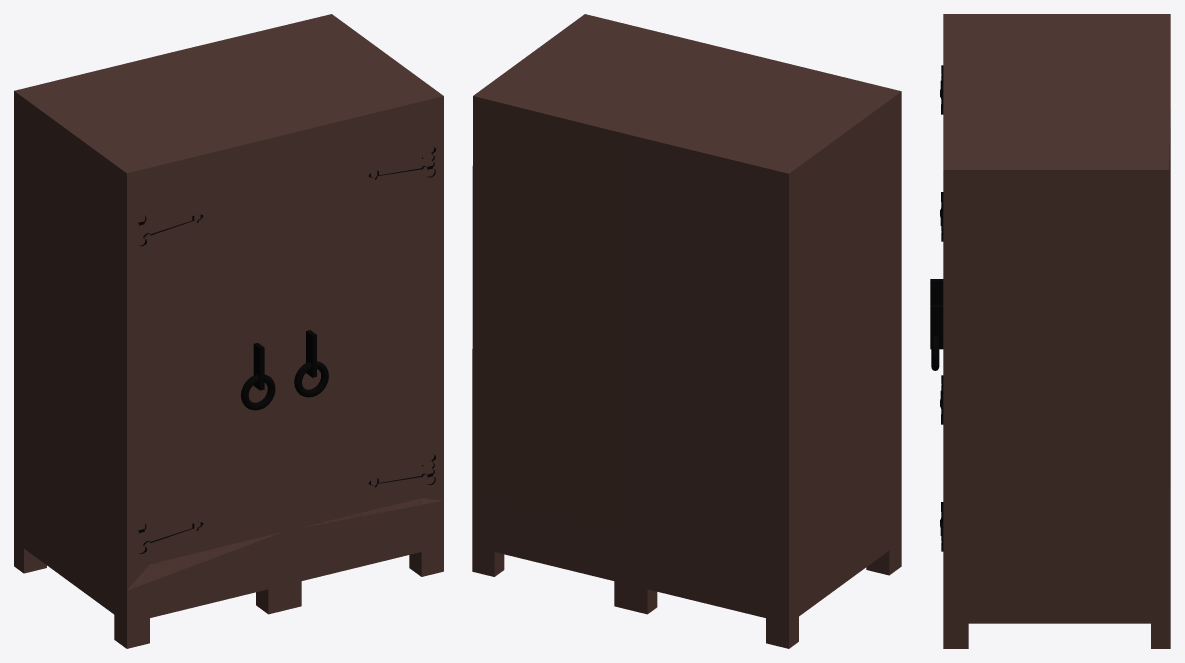
Rendered from armariogrande.fbx.
The picture shows the model from 3 angles, left to right: view 1: azimuth 30°, elevation 25°; view 2: azimuth 150°, elevation 25°; view 3: azimuth 270°, elevation 25°; orthographic projection.
Visible parts, largest first — view 1: Torus.005; view 2: Torus.005; view 3: Torus.005.
Boxes of the visible parts, x1,y1,x2,y2 form: Torus.005: (14, 14, 443, 648); Torus.005: (472, 14, 901, 648); Torus.005: (930, 14, 1170, 648).
Size of the model in its own units: 136 by 194 by 88.47.
